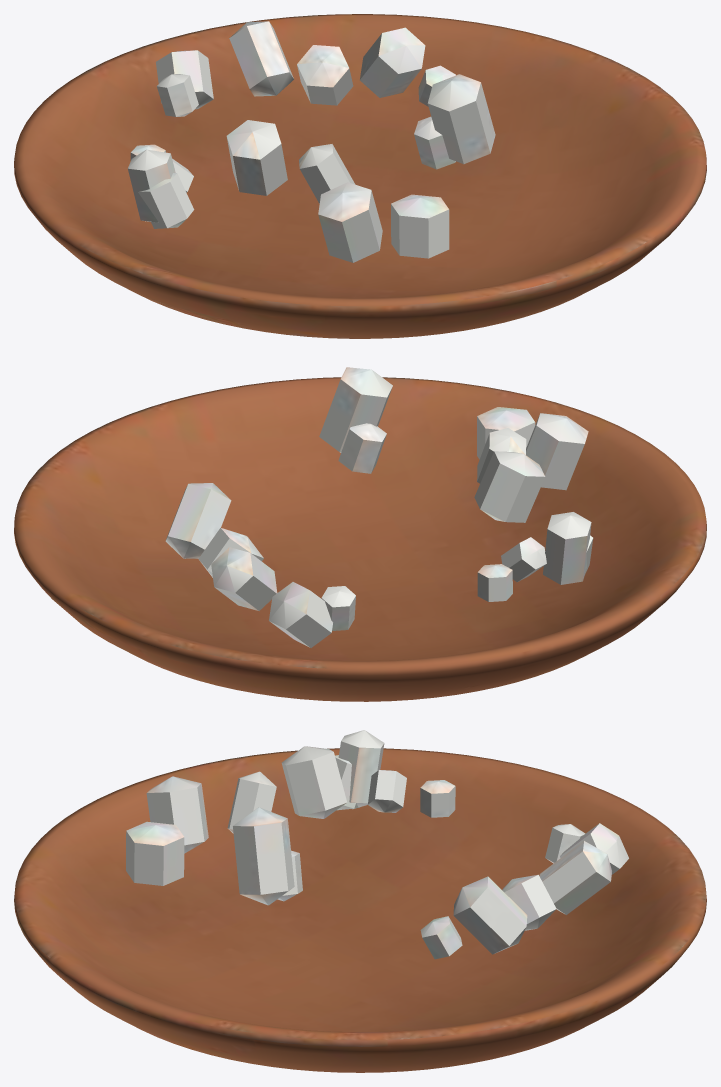
Rendered from alum.glb.
3 renders of one model, top to bottom at view 1: azimuth 30°, elevation 25°; view 2: azimuth 150°, elevation 25°; view 3: azimuth 270°, elevation 25°, orthographic.
Parts seen in each view (by area): view 1: alum; view 2: alum; view 3: alum.
Boxes of the visible parts, x1=… form: alum: x1=14, y1=14, x2=706, y2=338; alum: x1=14, y1=367, x2=706, y2=701; alum: x1=14, y1=730, x2=706, y2=1072.
Size of the model in its own units: 0.0901 by 0.029 by 0.0901.
1 material, 1 textured.
